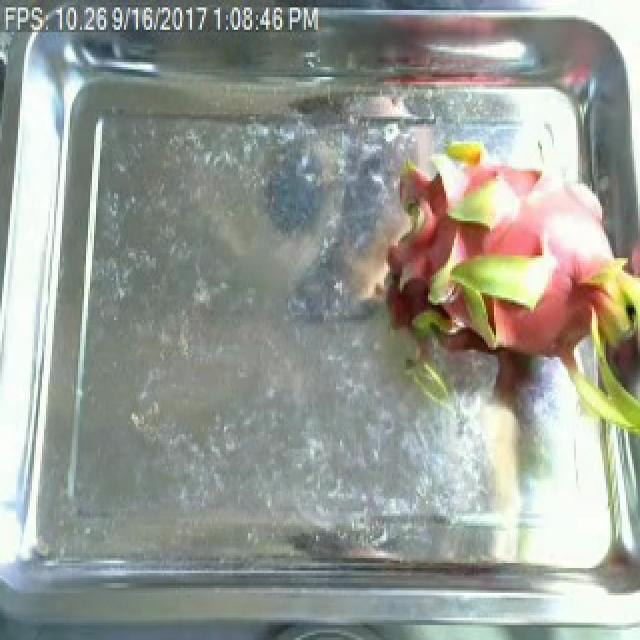fruit: (358, 114, 640, 447)
